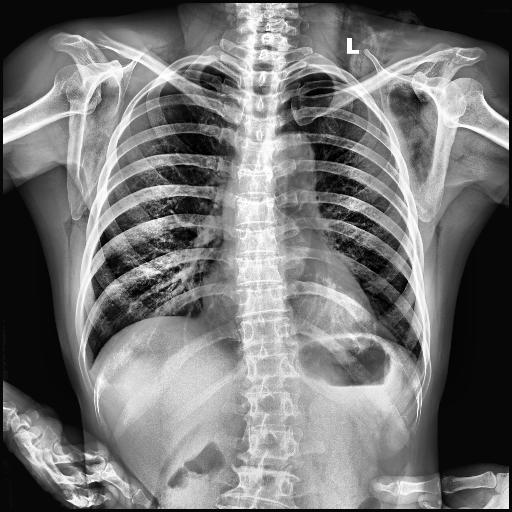0- Aortic enlargement: (265, 132, 318, 196), (272, 131, 316, 189), (270, 134, 315, 179)
3- Cardiomegaly: (202, 266, 378, 343)
